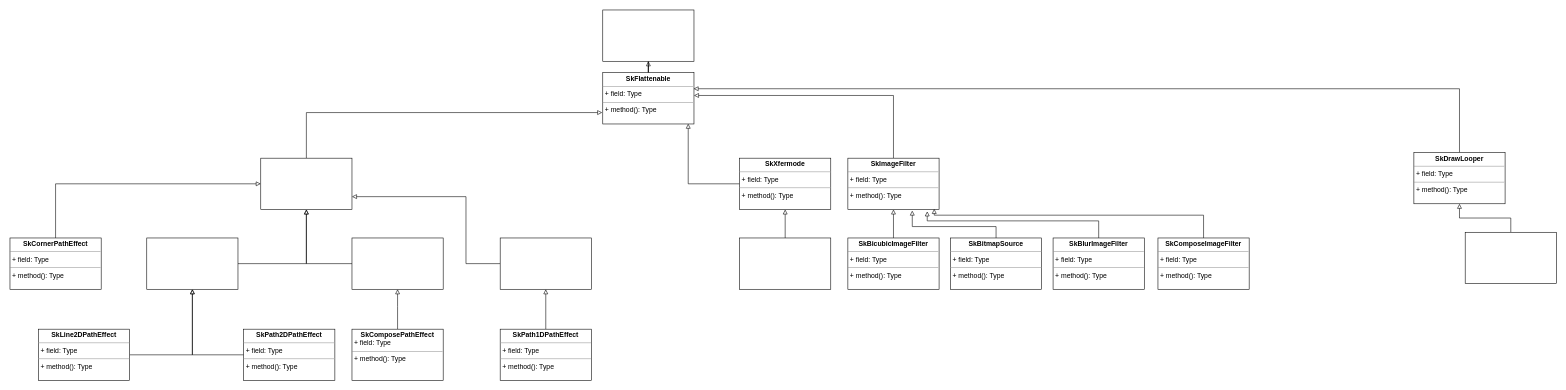
The diagram is 1566 pixels wide and 390 high, and some of its shapes have lost their labels. The shapes that lost their labels are listed below. From the top down, each one's centre as x and y in pixels, then its label:
(648,35): SkRefCnt + field: Type + method(): Type
(306,183): SkPathEffect + field: Type + method(): Type
(192,263): Sk2DPathEffect + field: Type + method(): Type
(397,263): SkPairPathEffect + field: Type + method(): Type
(545,263): Sk1DPathEffect + field: Type + method(): Type
(785,263): SkProcXfermode + field: Type + method(): Type
(1510,258): SkBlurDrawLooper + field: Type + method(): Type
